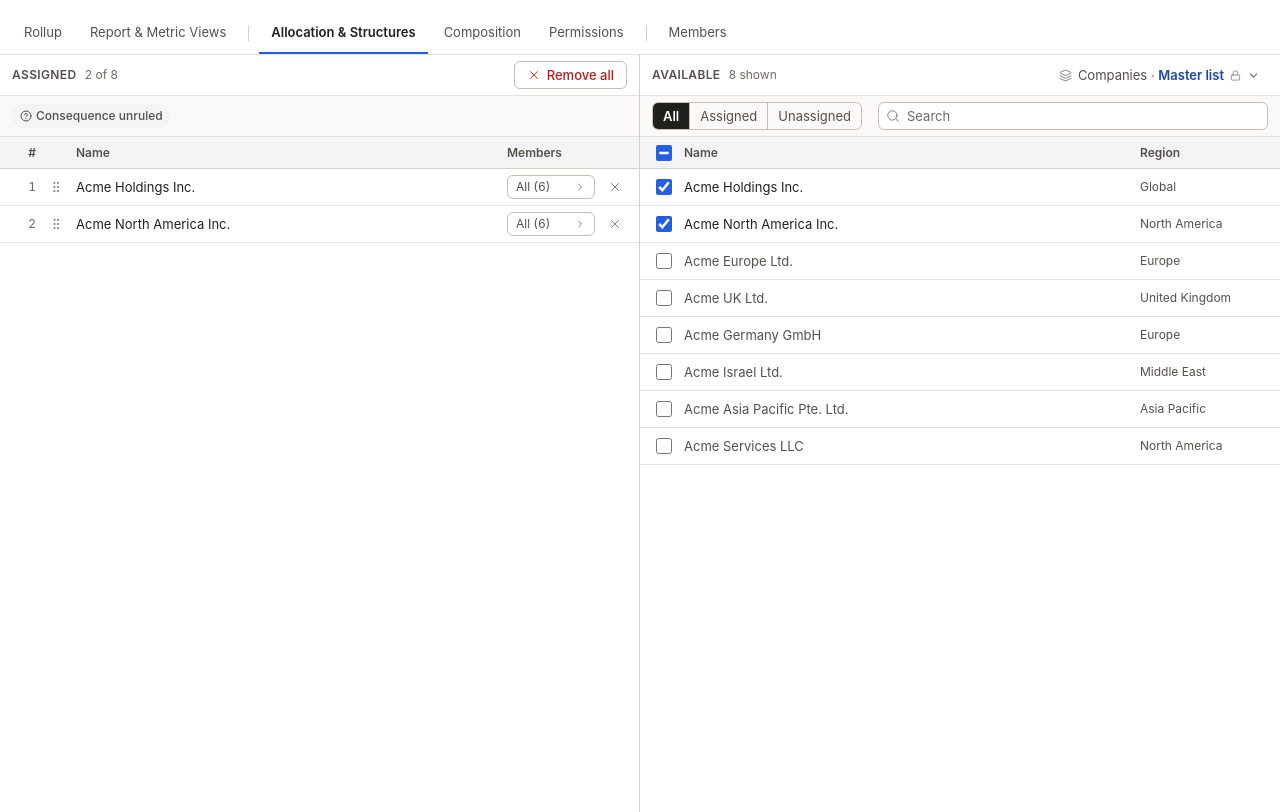
AssignUnassignSurface › offers Undo after removing a row and restores it in place
Click the button named "Remove Acme Holdings Inc.".
click(615, 187)  # box [603,175,627,199]
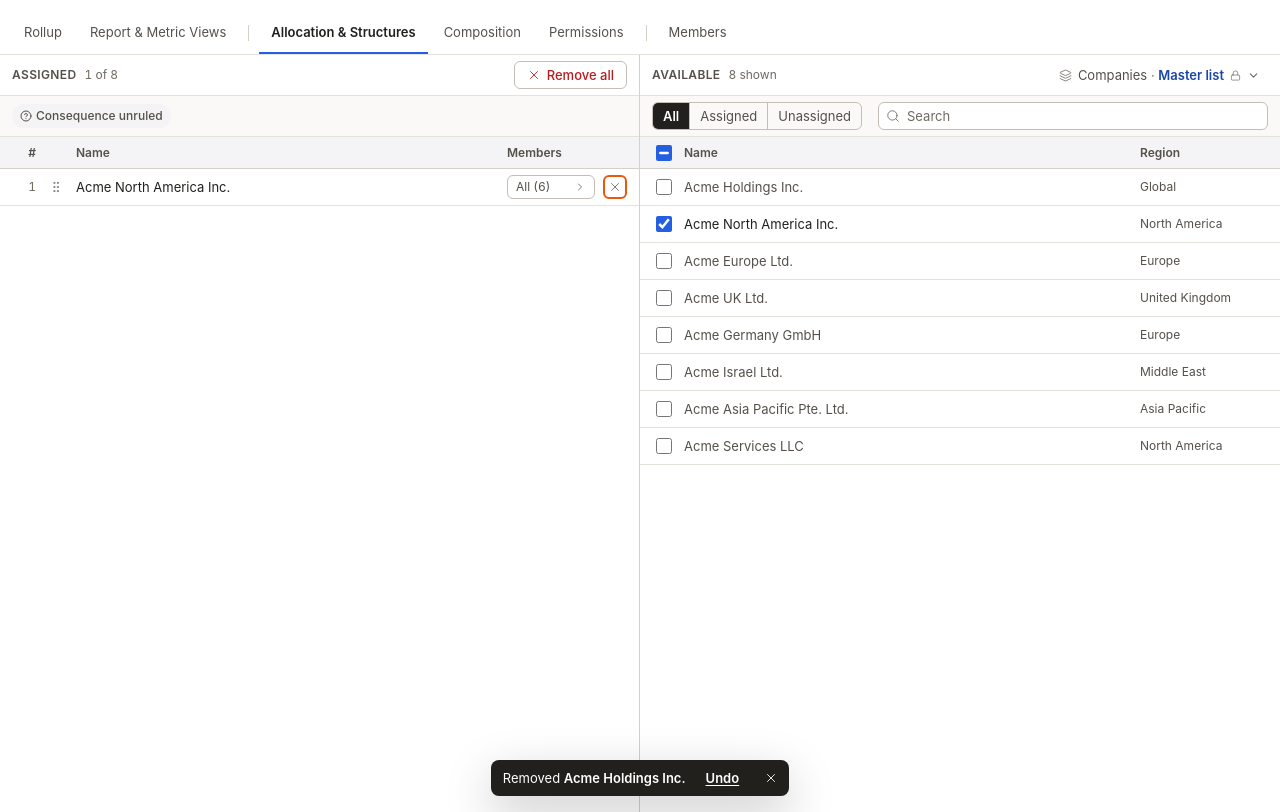
Click the button "Undo".
click(722, 778)  # box [698,766,747,790]
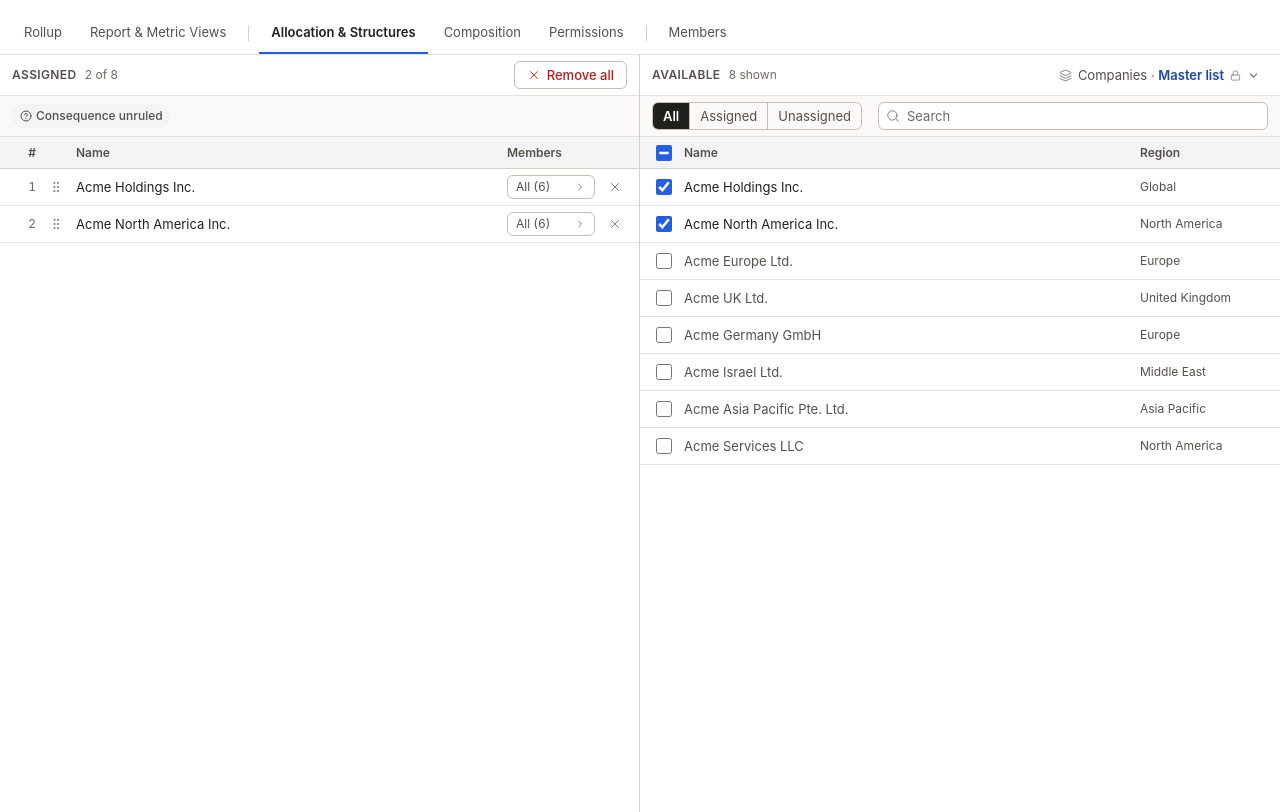
expect the list item "1 Acme Holdings Inc. All (6)" is shown: met, box [0,169,639,206]
expect the button "Undo" is gone: met
